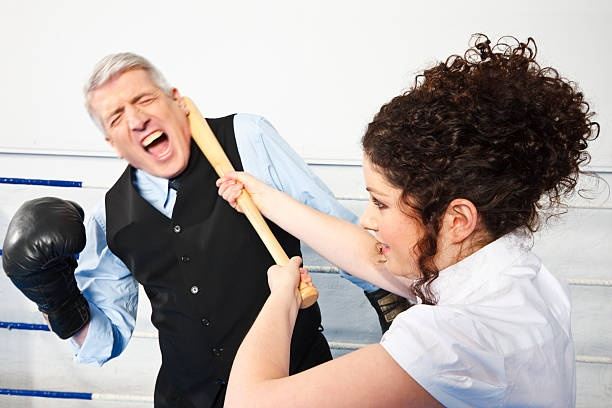bita: (181, 93, 315, 307)
